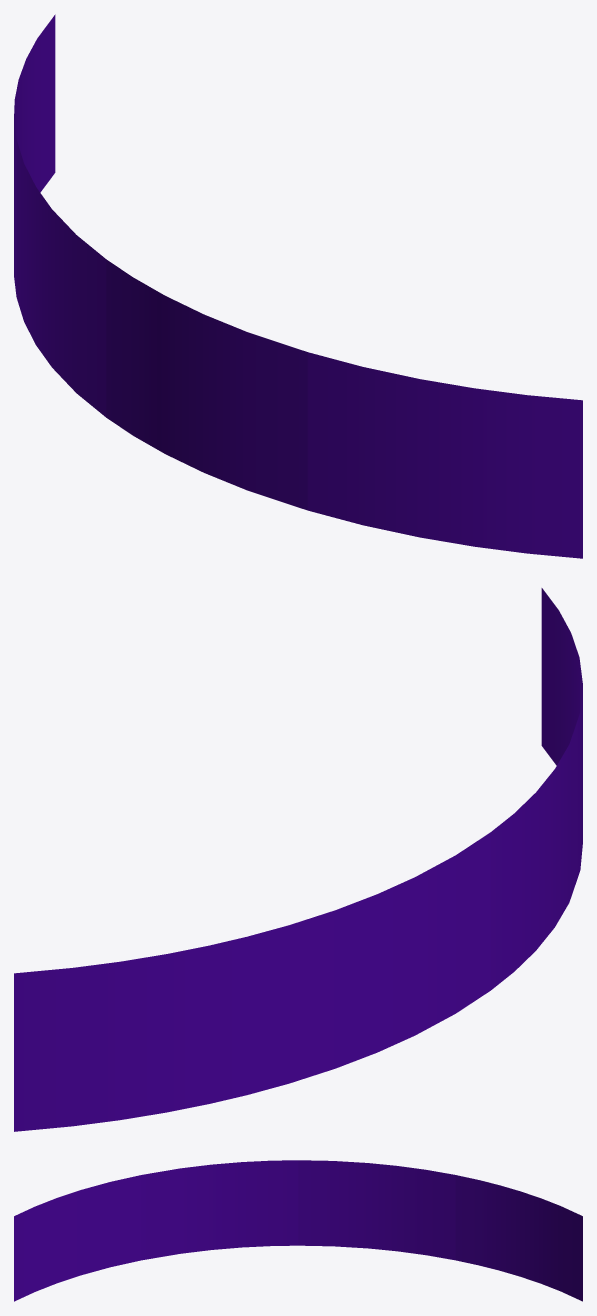
File: S_Ironworks_02.fbx
3 renders of one model, top to bottom at view 1: azimuth 30°, elevation 25°; view 2: azimuth 150°, elevation 25°; view 3: azimuth 270°, elevation 25°, orthographic. The views are drawn at different scales.
Visible parts, largest first — view 1: S_Ironworks_02; view 2: S_Ironworks_02; view 3: S_Ironworks_02.
Boxes of the visible parts, x1,y1,x2,y2 form: S_Ironworks_02: (14,14,582,558); S_Ironworks_02: (14,588,582,1131); S_Ironworks_02: (14,1160,582,1301).
Bounding box in the file's own units: 112 × 79.6 × 480.
